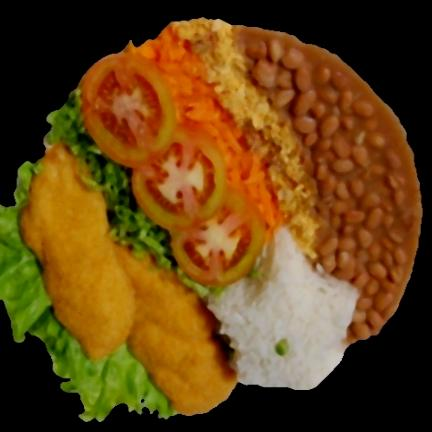beans: (237, 28, 420, 339)
carrot: (128, 29, 283, 244)
chicken: (21, 145, 235, 415)
rice: (207, 230, 357, 390)
salad: (0, 162, 175, 421), (47, 90, 206, 295)
tomato: (82, 50, 261, 286)
